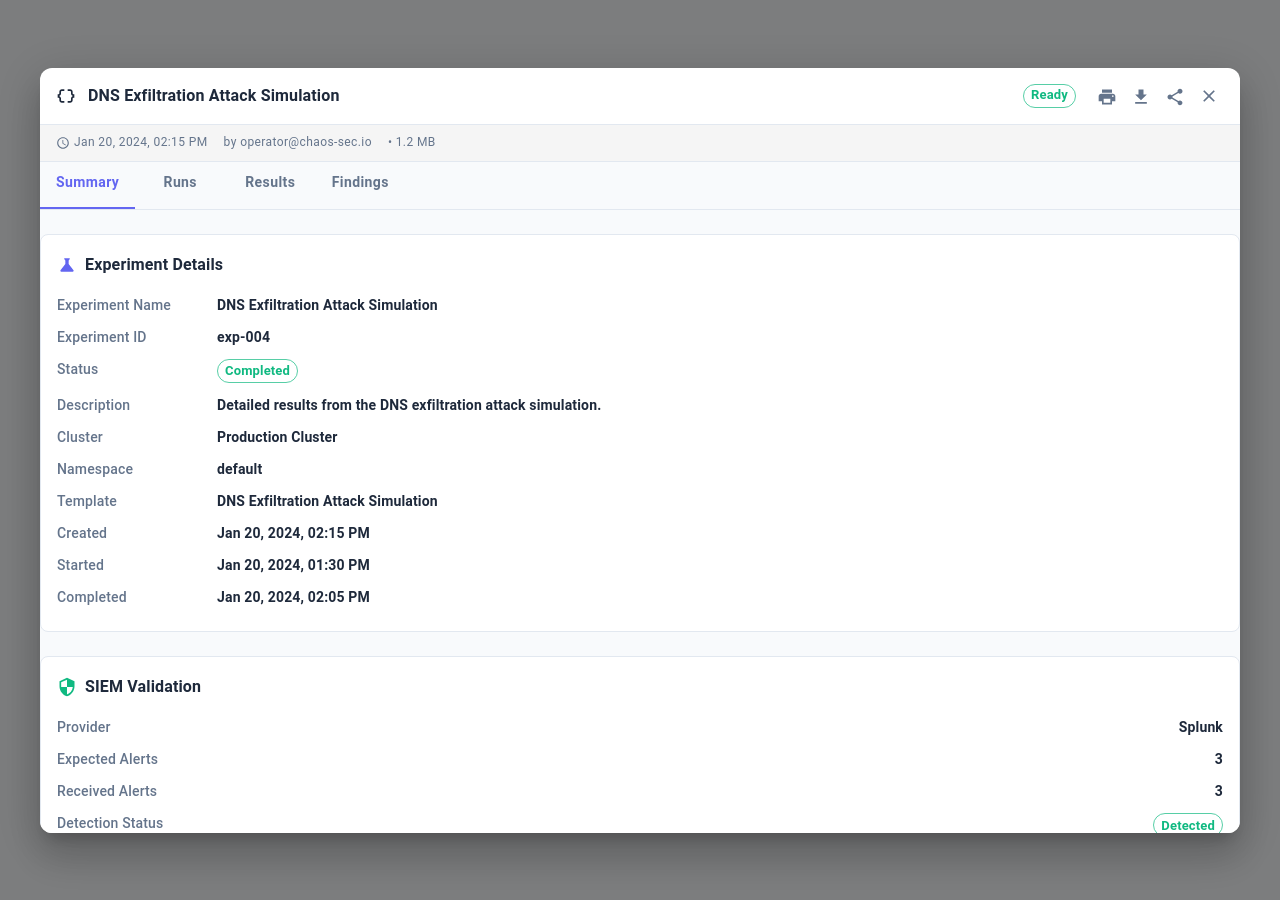
Test: ReportViewer › tab switching › shows results stat cards when Results tab is selected
Expected: the tab "Summary" is shown, [40,162,135,204]
Click the tab "Results": (270, 183) [225,162,315,204]
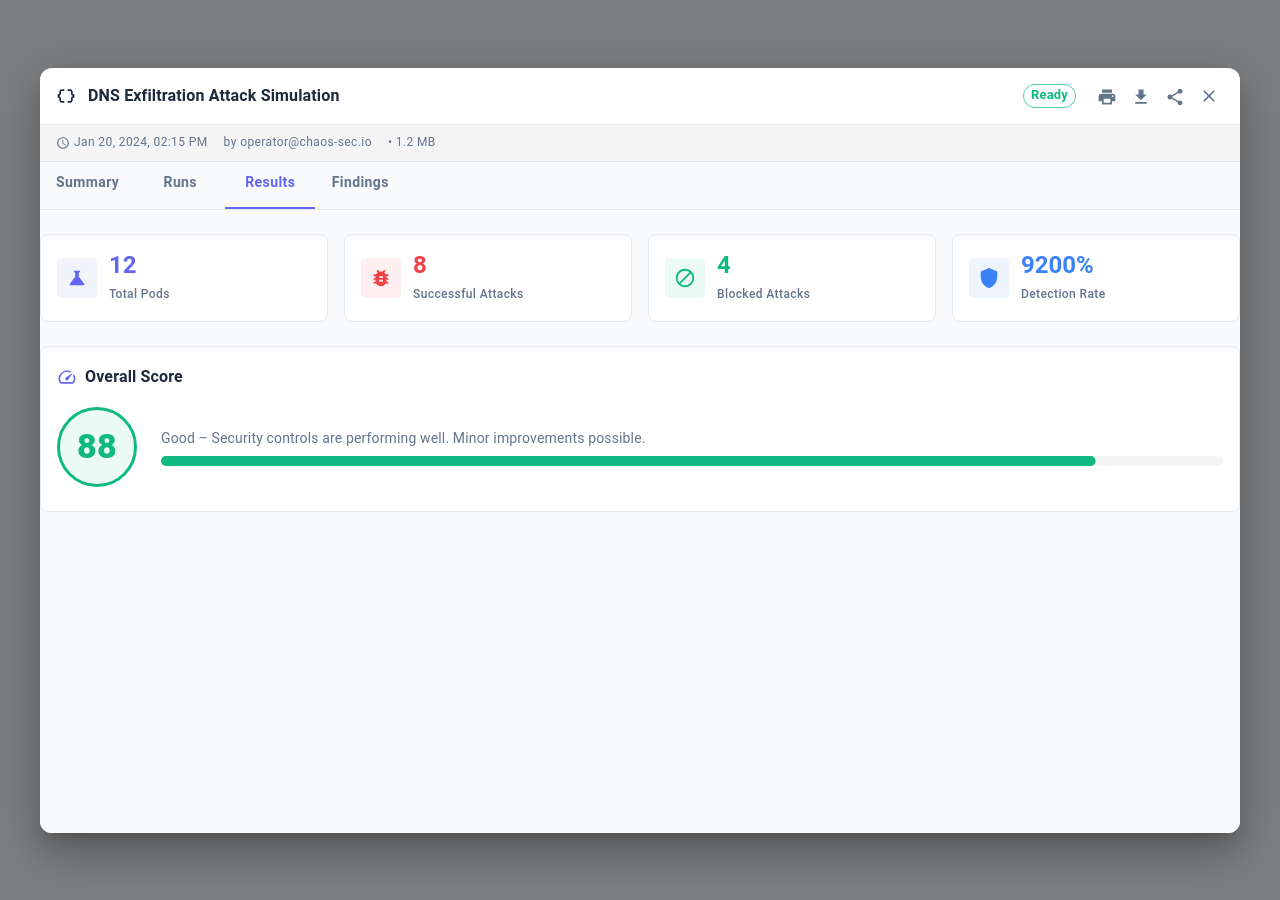
Expected: the text "Total Pods" is shown, [109,287,170,301]
Expected: the text "Successful Attacks" is shown, [413,287,524,301]
Expected: the text "Blocked Attacks" is shown, [717,287,810,301]
